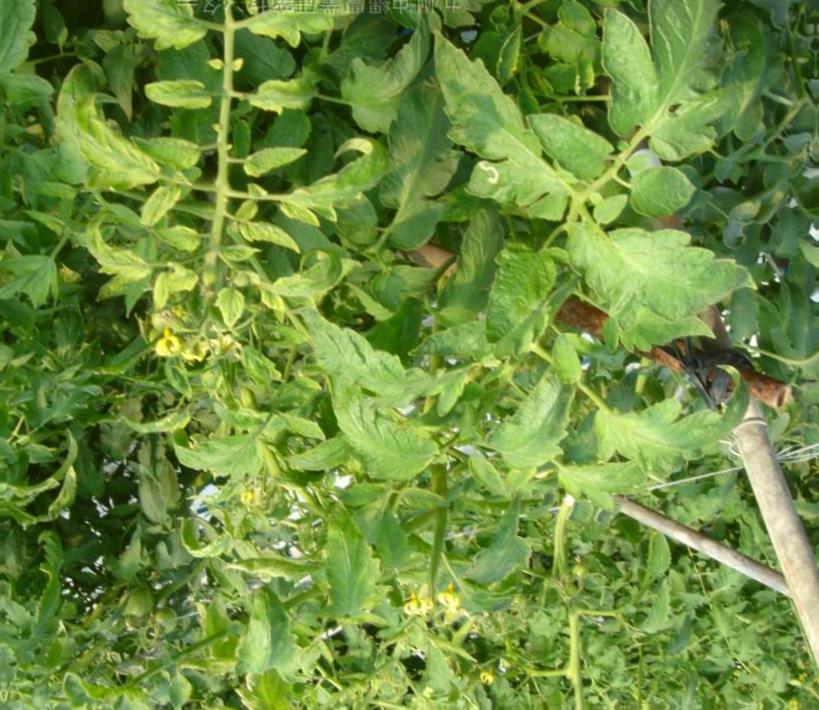Tomato leaf yellow virus: (604, 0, 769, 179), (421, 24, 570, 215), (553, 213, 728, 336), (277, 297, 448, 402), (580, 400, 772, 476), (308, 382, 444, 481), (50, 78, 162, 186), (307, 489, 389, 623), (283, 136, 388, 233), (534, 457, 688, 510), (91, 2, 201, 64), (74, 207, 147, 292), (166, 428, 268, 485), (250, 0, 370, 44), (125, 120, 212, 179), (238, 64, 322, 121), (234, 134, 309, 184), (134, 75, 218, 111), (200, 280, 249, 332)
